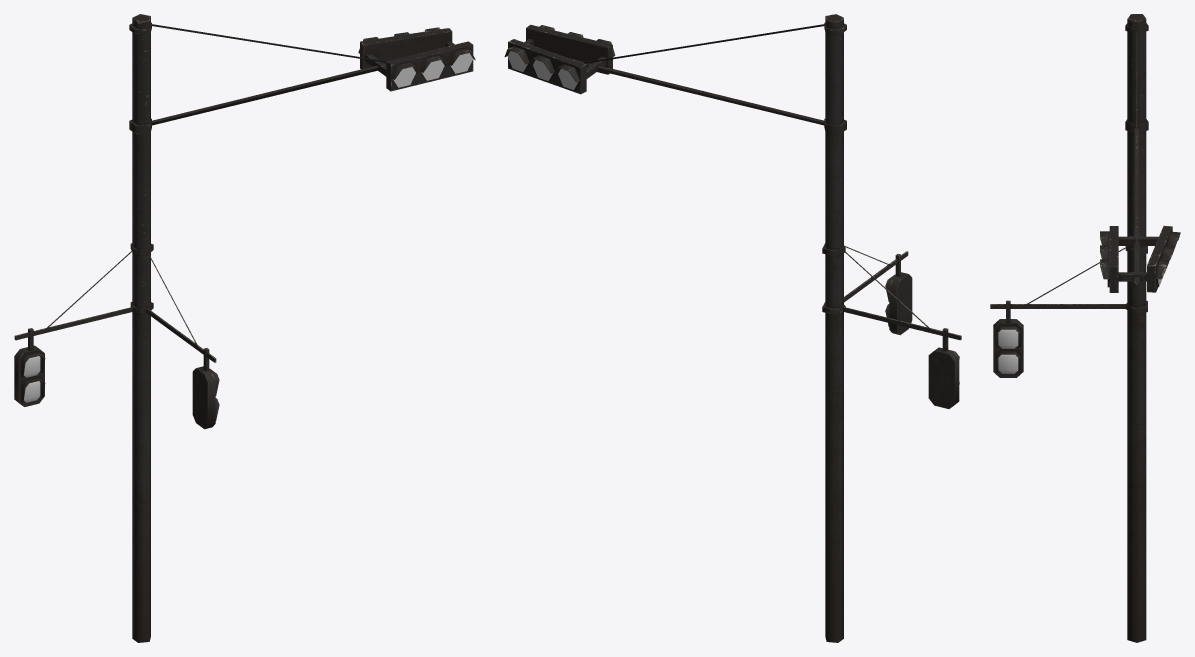
File: jctlowTrafficLightB.fbx
3 views of the same model, side by side, from view 1: azimuth 30°, elevation 25°; view 2: azimuth 150°, elevation 25°; view 3: azimuth 270°, elevation 25° (orthographic).
Parts seen in each view (by area): view 1: jctlowTrafficLightB; view 2: jctlowTrafficLightB; view 3: jctlowTrafficLightB.
Boxes of the visible parts, x1,y1,x2,y2 form: jctlowTrafficLightB: [14, 14, 475, 642]; jctlowTrafficLightB: [504, 14, 961, 642]; jctlowTrafficLightB: [990, 14, 1180, 642].
Bounding box in the file's own units: 572 × 752 × 209.
